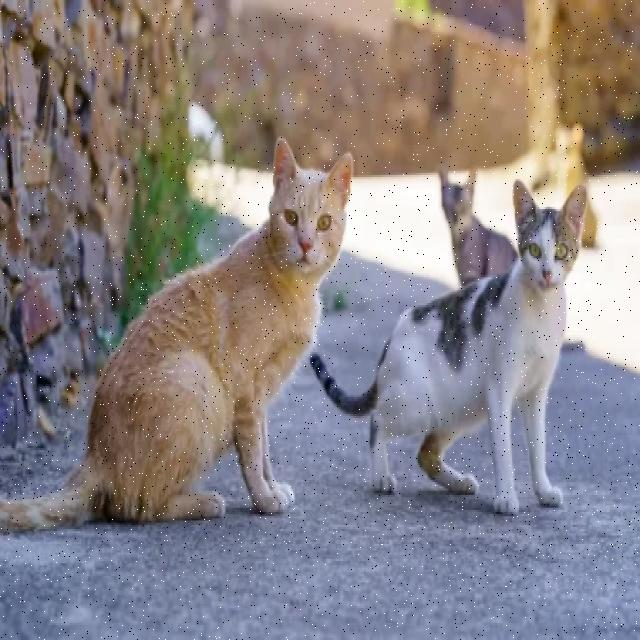cat: (0, 139, 351, 531), (311, 182, 584, 513), (441, 169, 518, 286)
